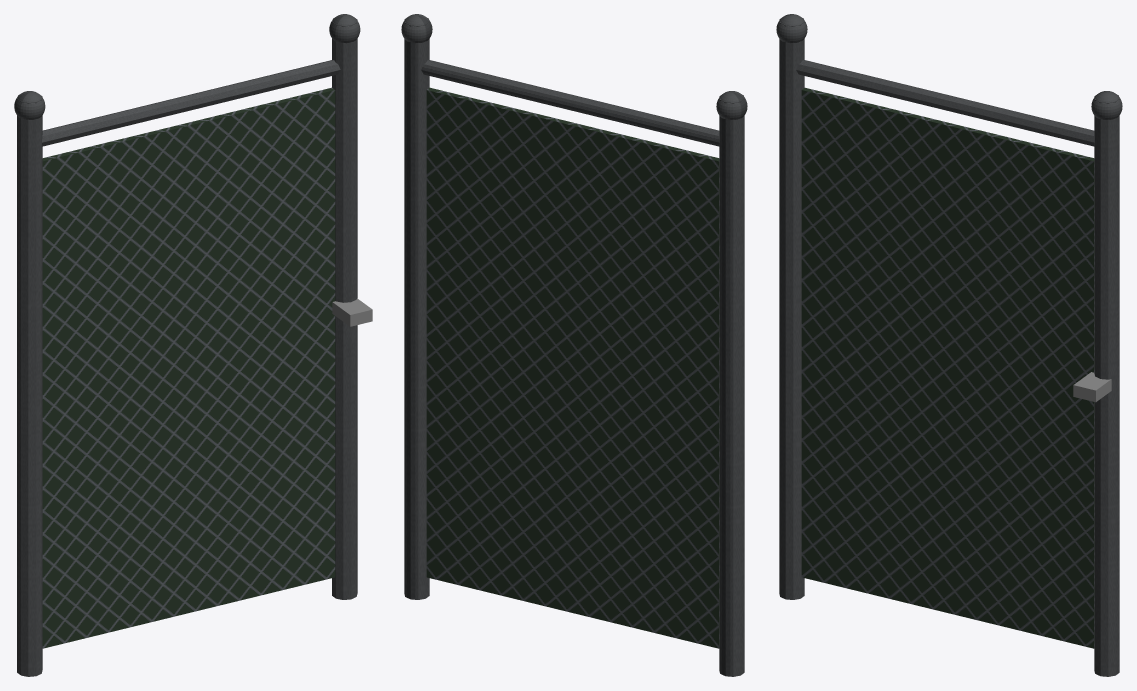
File: chainlink_gate_1m.dae
3 views of the same model, side by side, from view 1: azimuth 30°, elevation 25°; view 2: azimuth 150°, elevation 25°; view 3: azimuth 330°, elevation 25° (orthographic).
Parts seen in each view (by area): view 1: mesh, post_0, post_1, top_rail, latch, cap_0, cap_1; view 2: mesh, post_0, post_1, top_rail, cap_1, cap_0; view 3: mesh, post_1, post_0, top_rail, latch, cap_0, cap_1.
Boxes of the visible parts, x1=… form: mesh: x1=42, y1=87, x2=335, y2=648; post_0: x1=17, y1=95, x2=42, y2=676; post_1: x1=332, y1=18, x2=357, y2=599; top_rail: x1=42, y1=60, x2=340, y2=146; latch: x1=332, y1=298, x2=372, y2=326; cap_0: x1=14, y1=91, x2=45, y2=119; cap_1: x1=329, y1=14, x2=360, y2=43; mesh: x1=426, y1=87, x2=719, y2=648; post_0: x1=719, y1=95, x2=744, y2=676; post_1: x1=404, y1=18, x2=429, y2=599; top_rail: x1=421, y1=60, x2=719, y2=146; cap_1: x1=401, y1=14, x2=432, y2=43; cap_0: x1=716, y1=91, x2=747, y2=119; mesh: x1=801, y1=87, x2=1094, y2=648; post_1: x1=1094, y1=95, x2=1119, y2=676; post_0: x1=779, y1=18, x2=804, y2=599; top_rail: x1=796, y1=60, x2=1094, y2=146; latch: x1=1073, y1=372, x2=1111, y2=402; cap_0: x1=776, y1=14, x2=807, y2=43; cap_1: x1=1091, y1=91, x2=1122, y2=119.
Size of the model in its own units: 1.22 by 0.168 by 1.97.
3 materials, 2 textured.
